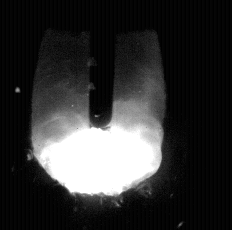arame: (90, 0, 114, 130)
poca: (30, 0, 163, 230)
